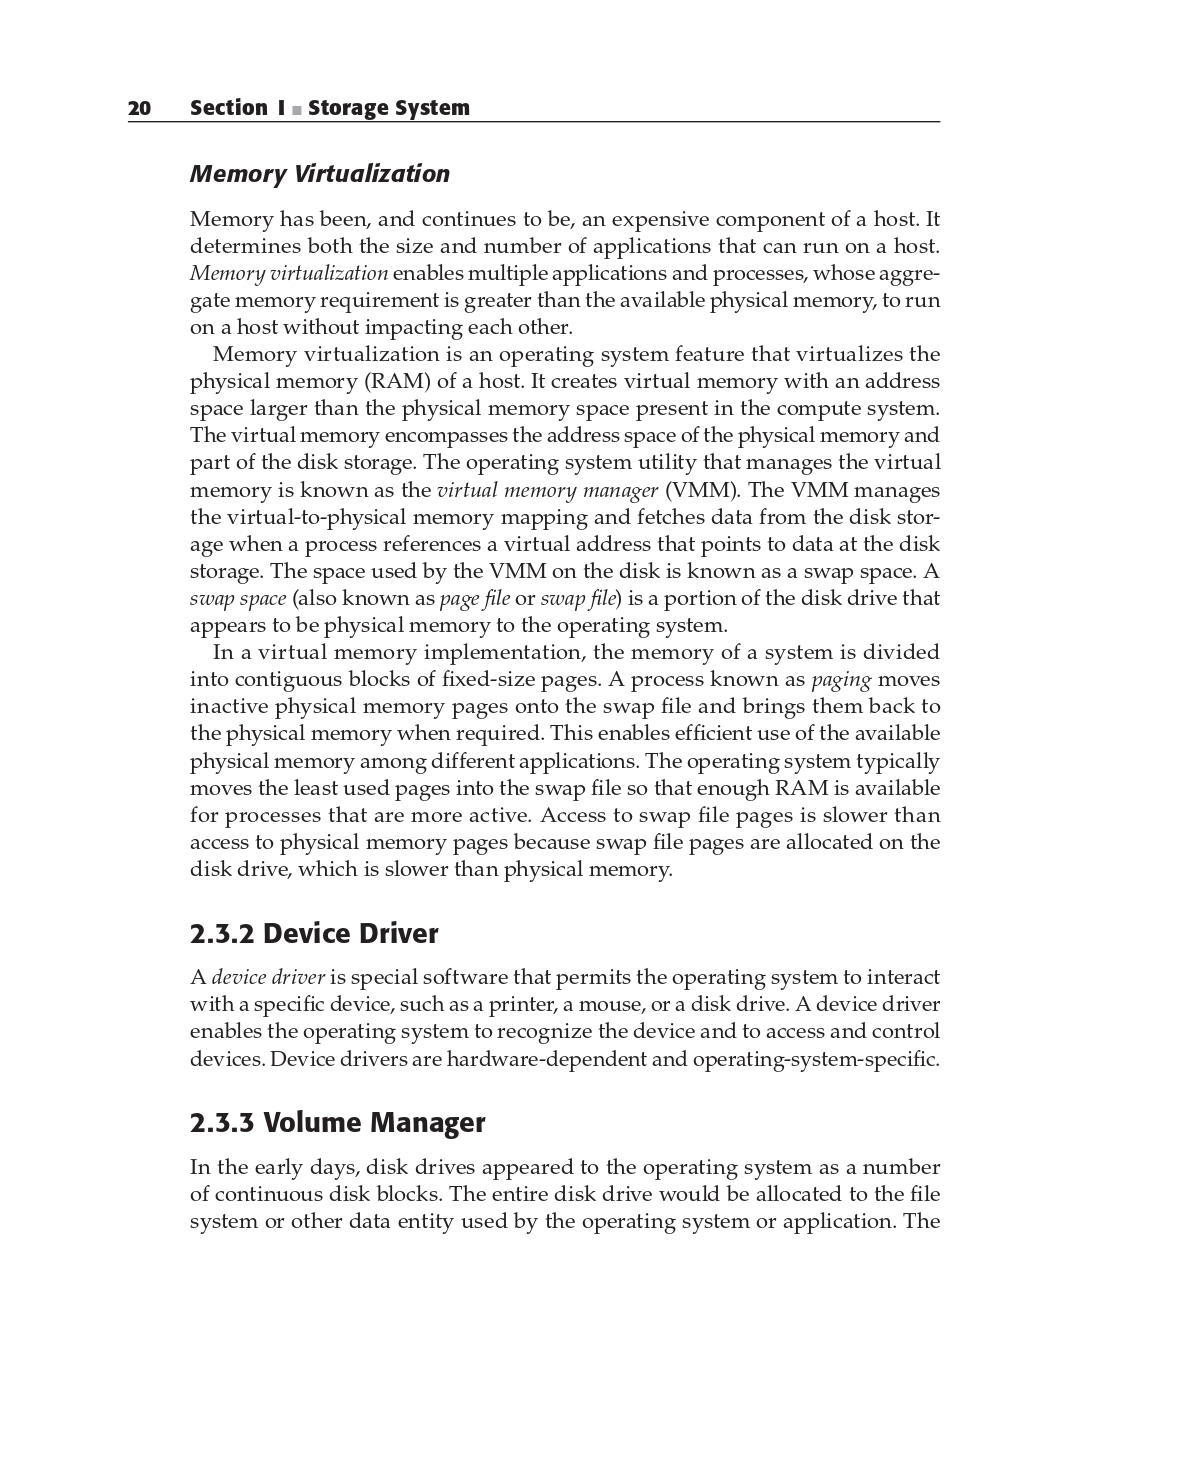Paragraph: (195, 344, 952, 636), (193, 636, 952, 882), (181, 201, 952, 330), (181, 958, 958, 1084), (172, 1154, 952, 1239), (176, 1104, 497, 1142), (181, 152, 450, 195), (187, 911, 447, 955), (114, 91, 487, 120)
